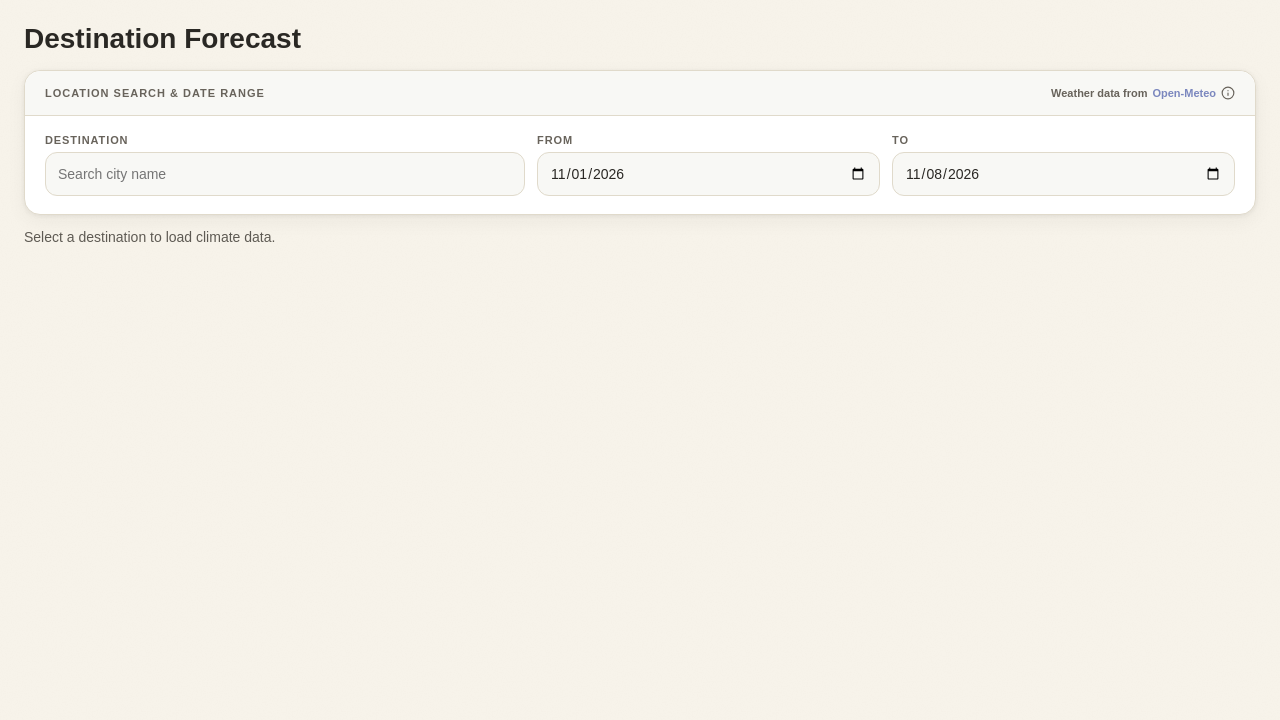
Test: ForecastTool › converts forecast displays to imperial without changing fetched values
Type "Bar" into the dropdown named "Search destination" at (285, 174), box [45, 152, 525, 196]
Wait 500 ms
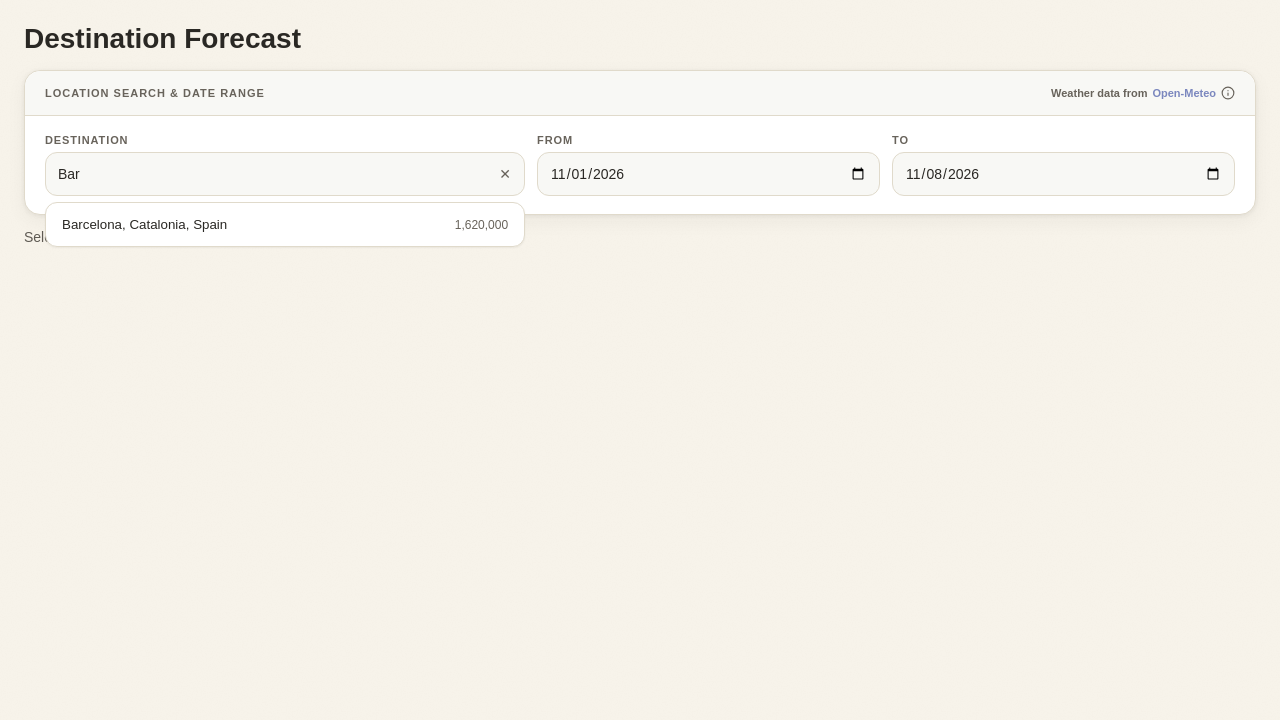
Press ArrowDown in the dropdown named "Search destination", box [45, 152, 525, 196]
Press Enter in the dropdown named "Search destination", box [45, 152, 525, 196]
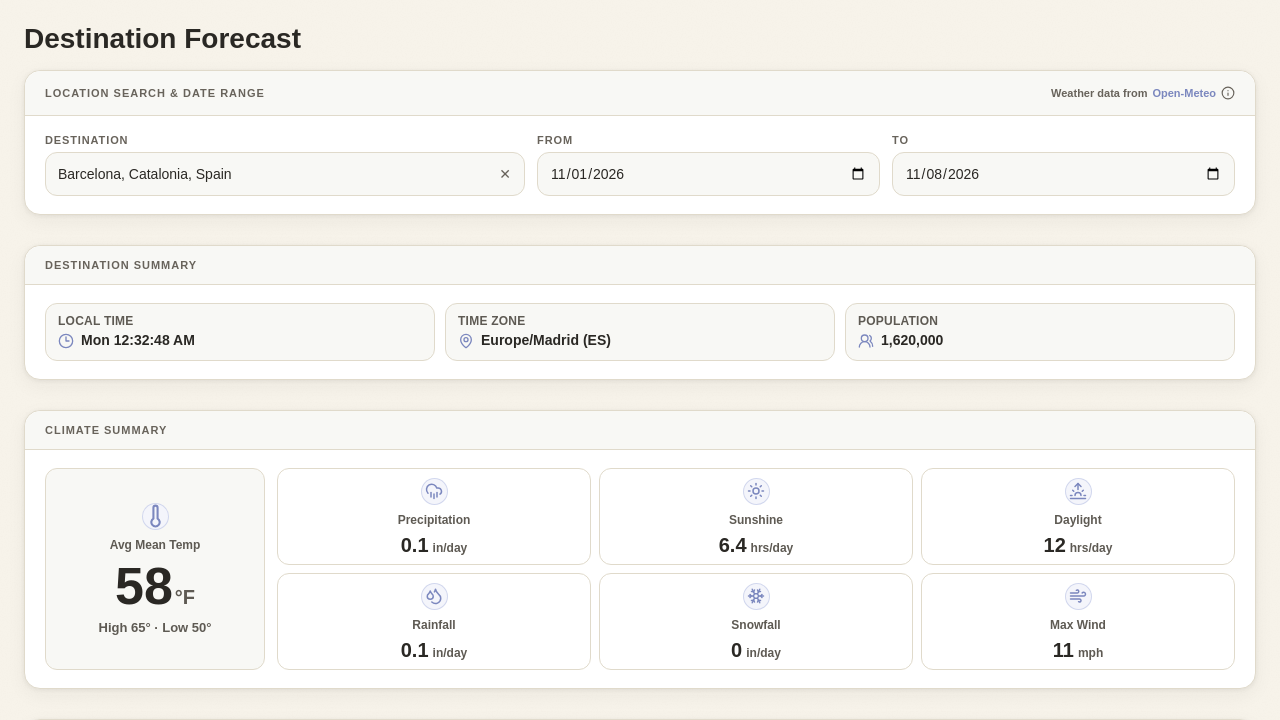
Result: the text "58" is shown at [115, 557, 173, 615]
Result: the text "°F" is shown at [175, 586, 195, 608]
Result: the text "in/day" below "Precipitation" is shown at [433, 541, 467, 555]
